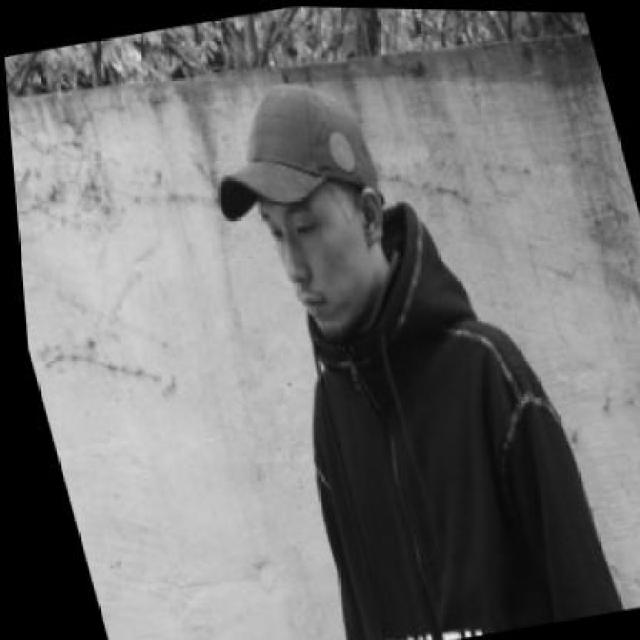hat: (180, 62, 386, 229)
